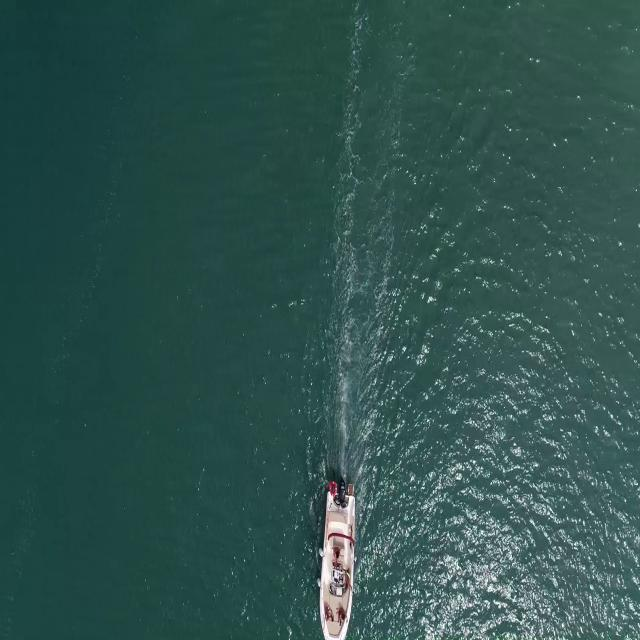boat: (319, 493, 359, 640)
life_buoy: (328, 482, 337, 494)
person: (322, 603, 335, 625), (332, 546, 342, 570), (343, 568, 353, 591), (338, 607, 347, 625)
